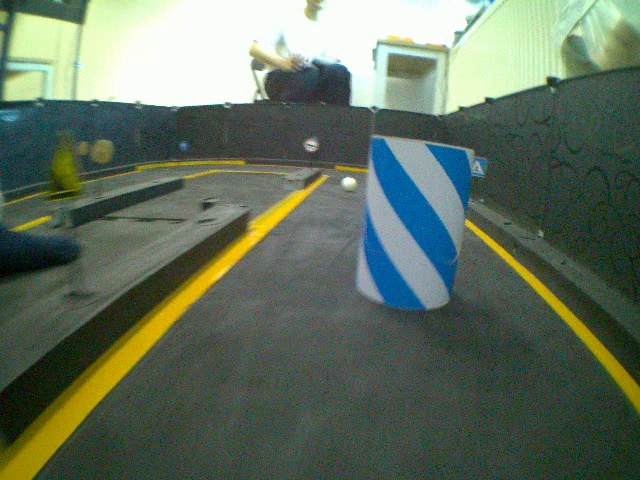ball: (342, 172, 358, 192)
bucket: (357, 133, 462, 313)
